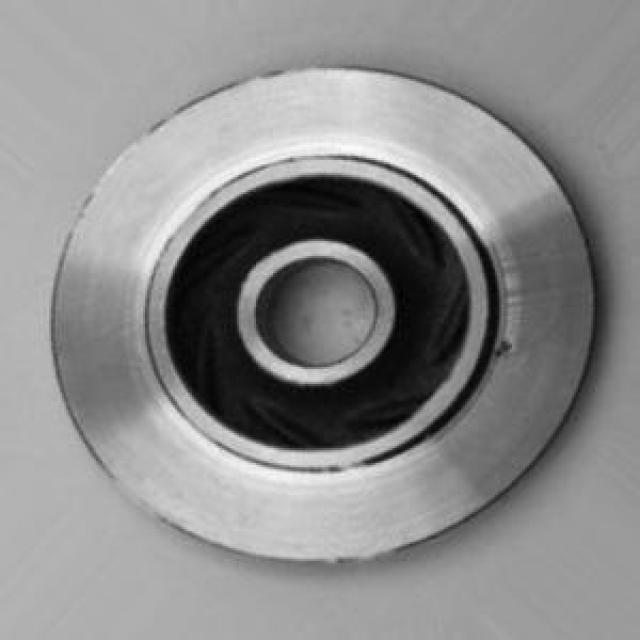Defect: (490, 331, 520, 363)
